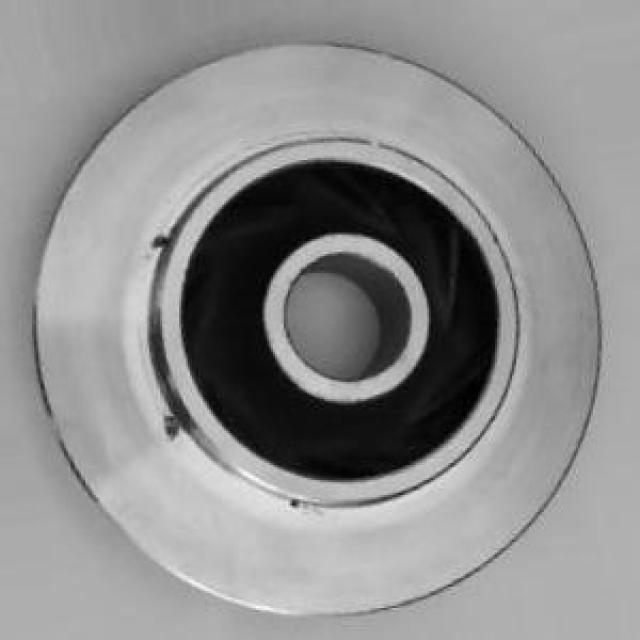Defect: (151, 399, 195, 446)
